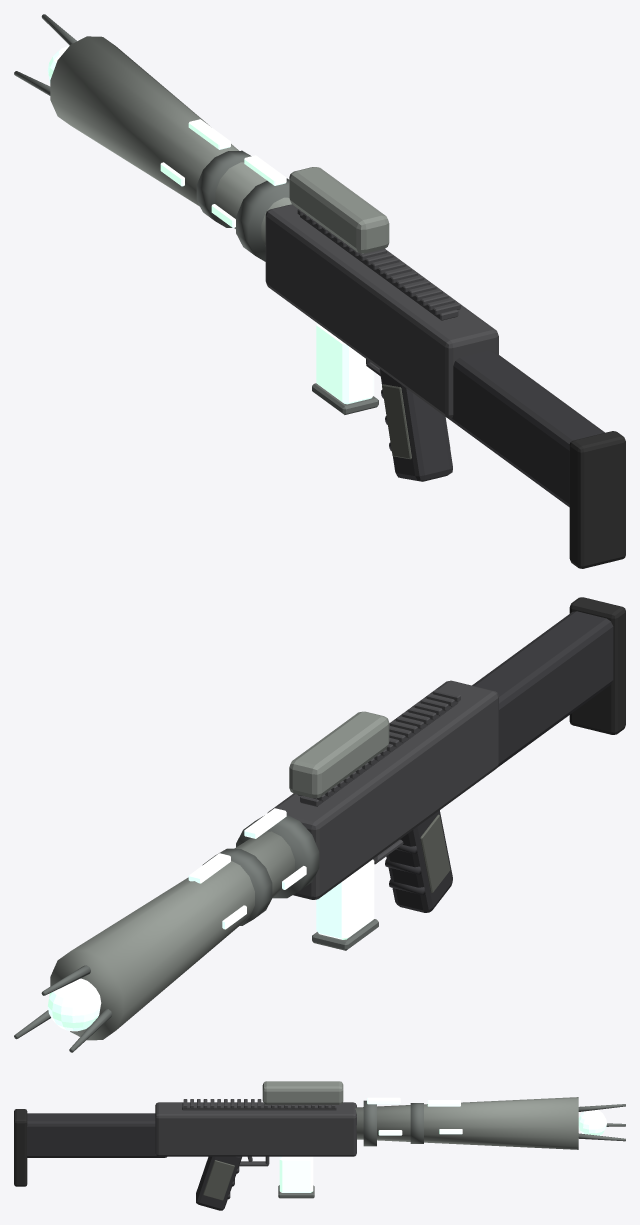
Rendered from plasma_rifle.glb.
The picture shows the model from 3 angles, top to bottom: view 1: azimuth 30°, elevation 25°; view 2: azimuth 150°, elevation 25°; view 3: azimuth 270°, elevation 25°; orthographic projection. The views are drawn at different scales.
Visible parts, largest first — view 1: Plasma_rifle; view 2: Plasma_rifle; view 3: Plasma_rifle.
Part boxes in pixels (bbox=[...]): Plasma_rifle: bbox=[14, 14, 625, 568]; Plasma_rifle: bbox=[14, 597, 625, 1052]; Plasma_rifle: bbox=[14, 1081, 625, 1210].
Size of the model in its own units: 0.07 by 0.2026 by 0.9102.
